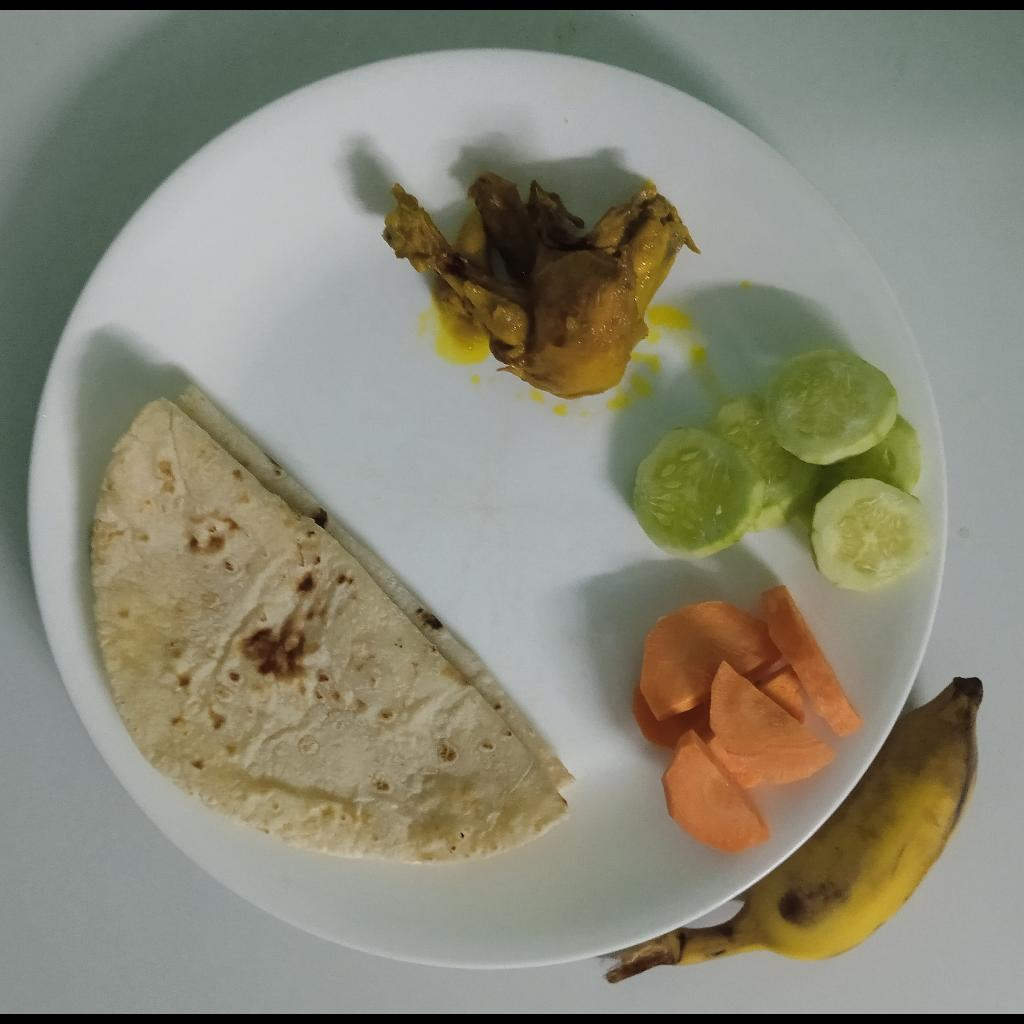banana: (605, 677, 982, 986)
carrot: (631, 585, 869, 855)
chicken: (382, 172, 702, 398)
cucumber: (632, 348, 931, 593)
ruti: (95, 385, 576, 864)
